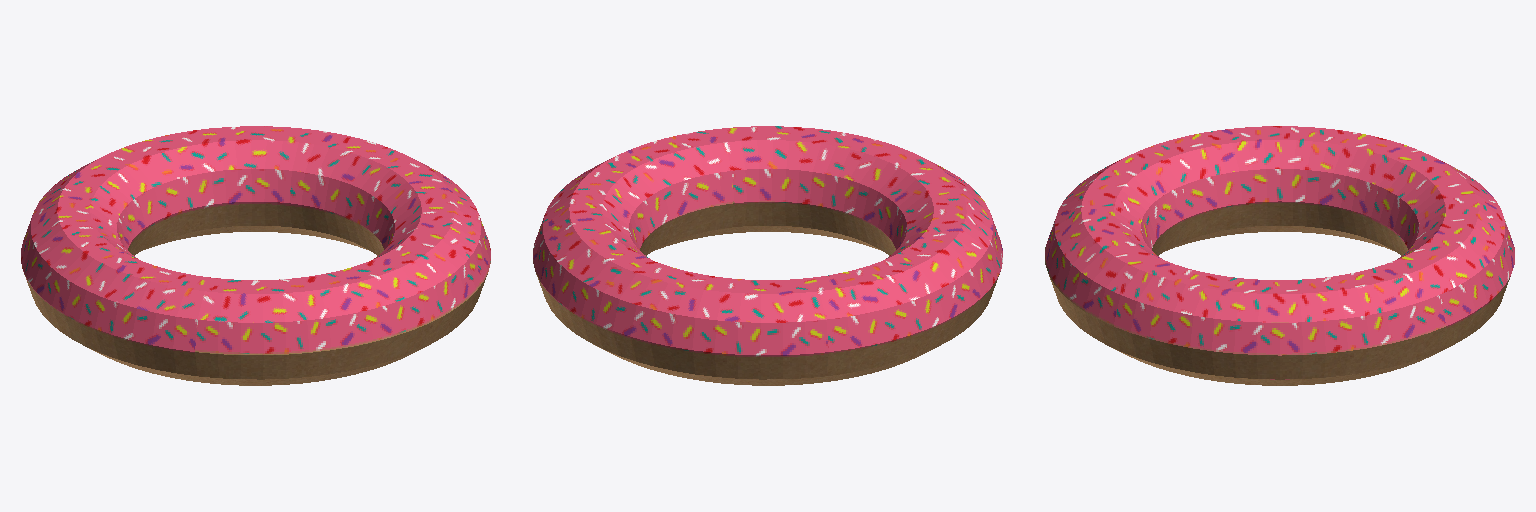
3 renders of one model, left to right at view 1: azimuth 30°, elevation 25°; view 2: azimuth 150°, elevation 25°; view 3: azimuth 270°, elevation 25°, orthographic.
Visible parts, largest first — view 1: Torus4; view 2: Torus4; view 3: Torus4.
Boxes of the visible parts, box(x1,y1,x2,y2) form: Torus4: box(21, 126, 490, 385); Torus4: box(533, 126, 1002, 385); Torus4: box(1045, 126, 1514, 385).
Bounding box in the file's own units: 2.58 × 0.5555 × 2.58.
Materials: 1 (1 with a texture image).